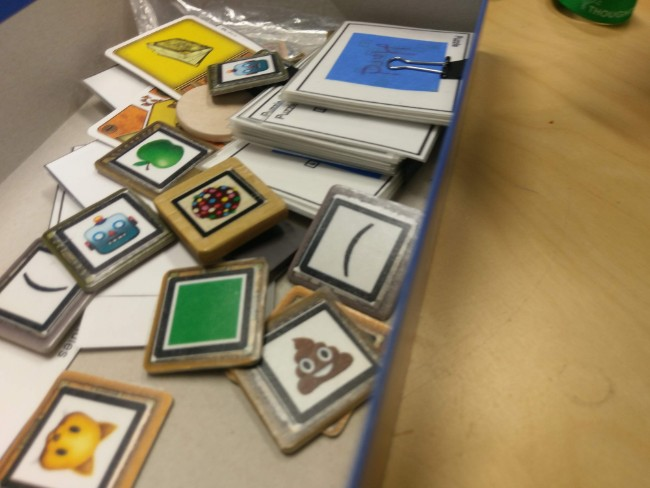cookie: (165, 165, 271, 239)
